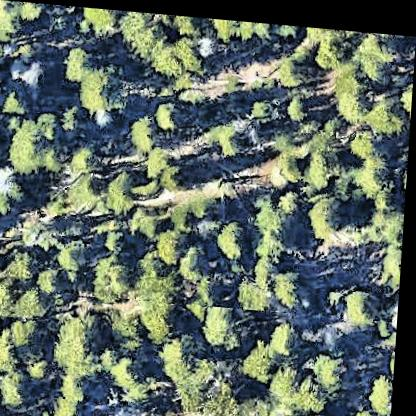tree-top: (51, 311, 112, 381), (1, 112, 61, 180), (179, 356, 245, 416), (273, 360, 336, 412), (73, 61, 128, 120), (349, 142, 402, 202), (90, 246, 144, 304), (4, 223, 51, 284), (198, 296, 249, 352), (236, 259, 280, 312), (338, 279, 386, 326), (24, 260, 68, 309), (141, 144, 193, 185), (306, 343, 352, 389), (241, 332, 284, 381), (110, 347, 155, 393), (12, 200, 62, 240), (333, 61, 372, 112), (308, 186, 350, 233), (365, 87, 410, 130), (274, 259, 315, 306), (218, 210, 256, 260), (0, 280, 42, 325), (366, 193, 407, 238), (209, 15, 274, 43), (135, 99, 173, 145), (145, 289, 185, 331), (374, 231, 405, 285), (125, 107, 163, 151), (270, 313, 308, 355), (1, 367, 38, 410), (163, 31, 199, 74), (305, 140, 339, 185), (13, 283, 51, 323), (155, 223, 191, 264), (4, 246, 42, 284), (178, 238, 214, 278), (77, 5, 124, 35), (370, 362, 398, 411), (104, 172, 137, 213), (160, 332, 199, 365), (347, 117, 382, 153), (261, 223, 296, 259), (66, 140, 99, 178), (134, 203, 172, 236), (0, 323, 24, 375), (151, 95, 183, 131), (73, 170, 105, 206), (25, 346, 56, 382), (134, 18, 168, 50), (105, 403, 188, 416), (303, 21, 356, 40), (274, 150, 303, 184), (0, 162, 24, 203), (38, 264, 68, 296), (0, 86, 29, 118), (7, 1, 44, 26), (0, 0, 22, 42), (366, 28, 396, 58), (215, 119, 245, 148), (120, 8, 150, 37), (276, 50, 304, 80), (141, 254, 169, 284), (0, 272, 16, 323), (67, 46, 91, 80), (105, 226, 133, 255), (259, 195, 286, 225), (14, 36, 42, 64), (67, 372, 96, 399), (193, 216, 226, 239), (362, 42, 389, 70), (167, 203, 195, 230), (284, 87, 310, 116), (188, 189, 217, 215), (346, 398, 387, 416), (397, 66, 414, 108), (26, 59, 53, 85), (319, 37, 344, 65), (67, 243, 91, 271), (194, 27, 217, 55), (388, 284, 402, 329), (172, 12, 199, 35), (270, 397, 302, 416), (65, 102, 85, 132), (60, 396, 90, 416), (251, 92, 274, 118), (284, 183, 305, 211), (327, 108, 347, 136), (279, 20, 300, 39), (0, 372, 9, 415), (307, 406, 332, 416), (293, 416, 319, 416)
